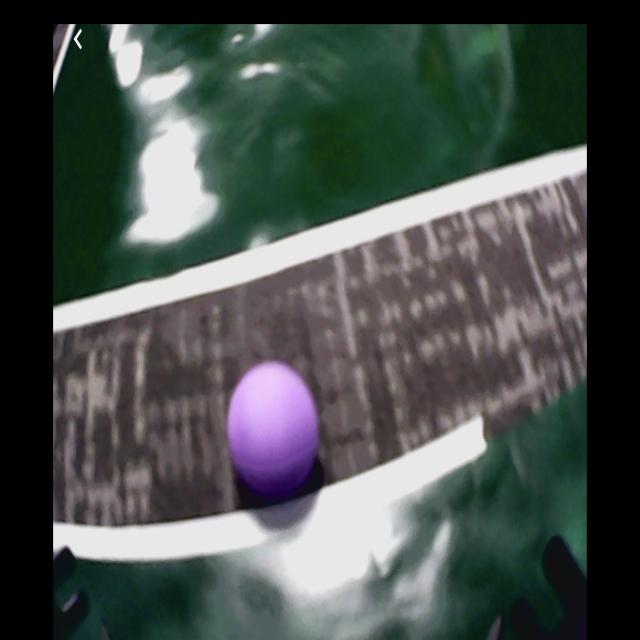ball: (230, 363, 320, 488)
